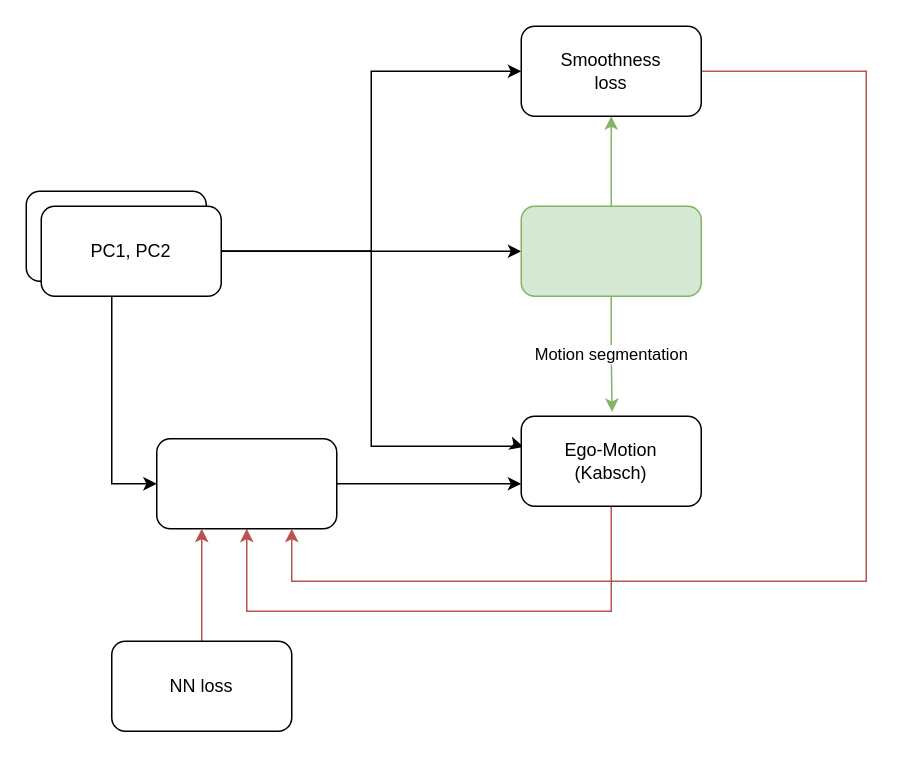
The diagram is 905 pixels wide and 758 high, and some of its shapes have lost their labels. The centre of each missing label's shape, as x and y in pixels:
Motion Flow: the point at 246,483
Visibility: the point at 610,250
